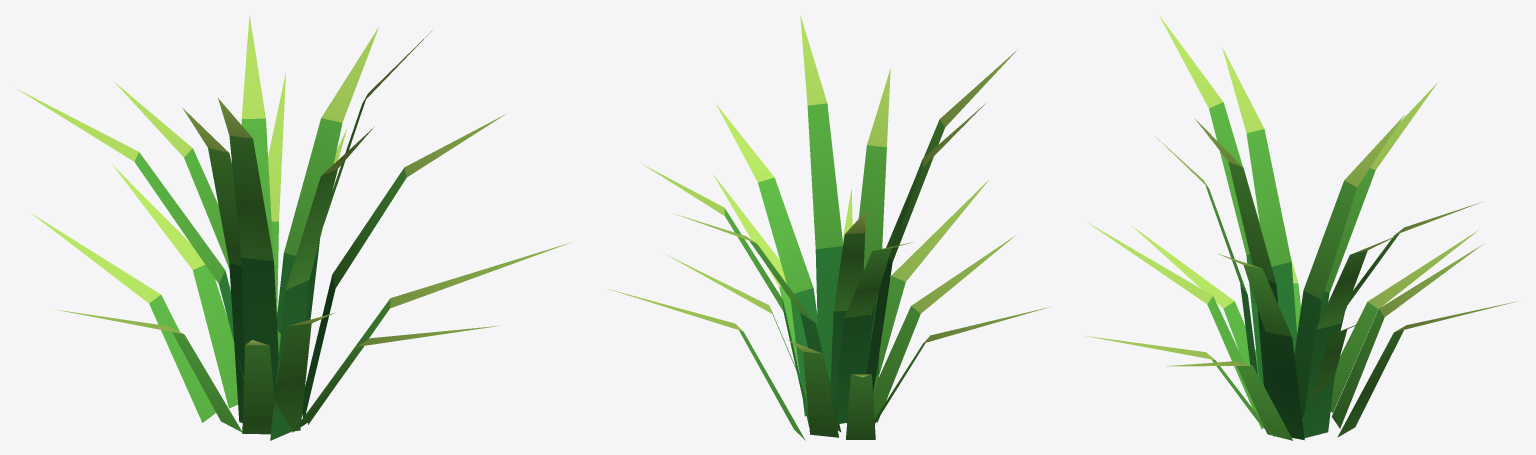
The model's file is grass_tuft_a.glb.
The picture shows the model from 3 angles, left to right: view 1: azimuth 30°, elevation 25°; view 2: azimuth 150°, elevation 25°; view 3: azimuth 270°, elevation 25°; orthographic projection. The views are drawn at different scales.
Visible parts, largest first — view 1: grass_tuft_a_mesh; view 2: grass_tuft_a_mesh; view 3: grass_tuft_a_mesh.
Boxes of the visible parts, x1=… form: grass_tuft_a_mesh: x1=17, y1=14, x2=570, y2=440; grass_tuft_a_mesh: x1=607, y1=15, x2=1049, y2=440; grass_tuft_a_mesh: x1=1086, y1=15, x2=1518, y2=440.
Size of the model in its own units: 0.6357 by 0.5417 by 0.6065.
